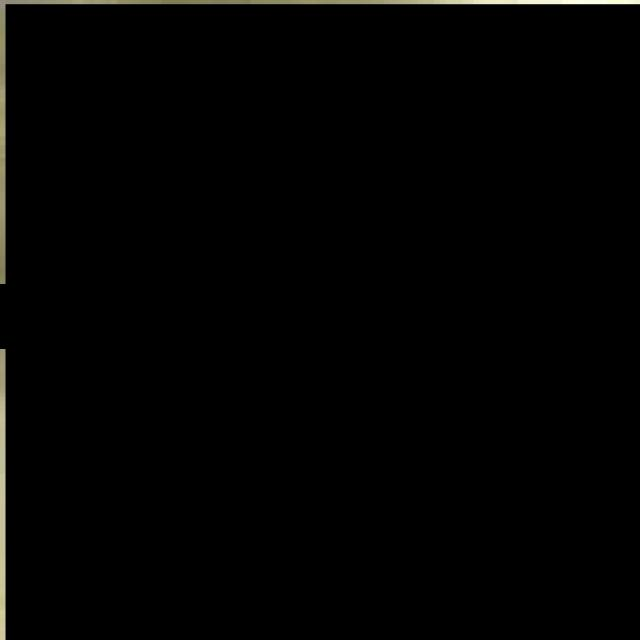smoke: (5, 4, 640, 639)
